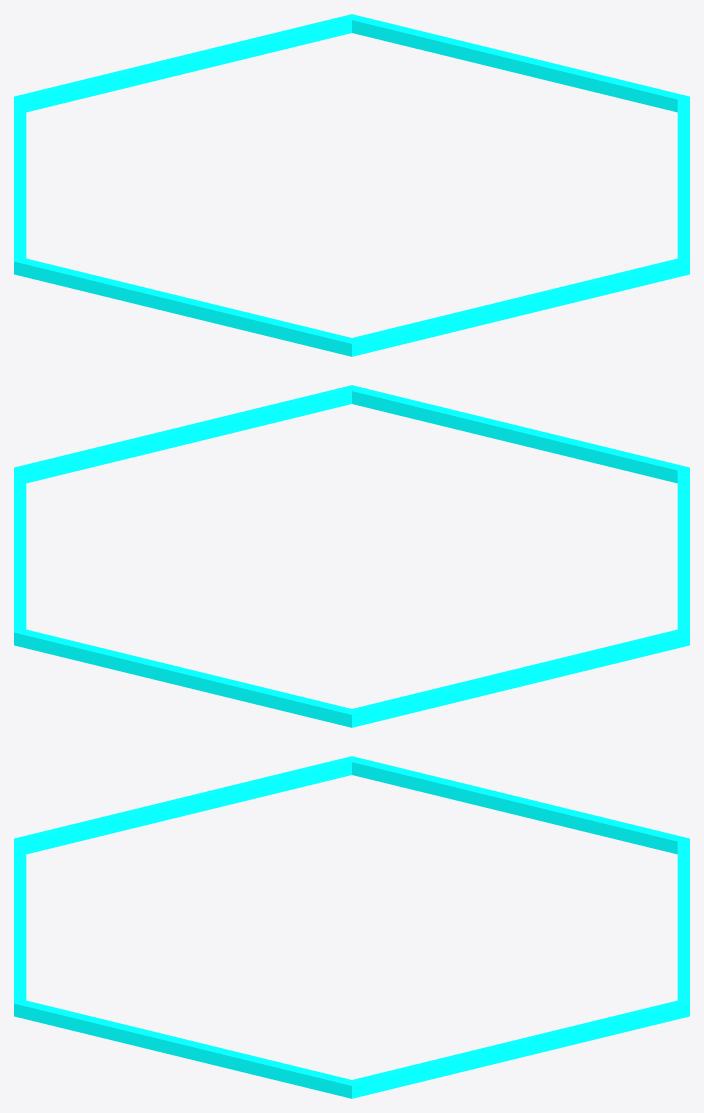
Rendered from hexGrid.fbx.
3 views of the same model, one above another, from view 1: azimuth 30°, elevation 25°; view 2: azimuth 150°, elevation 25°; view 3: azimuth 270°, elevation 25° (orthographic).
Parts seen in each view (by area): view 1: hexGrid_GEO; view 2: hexGrid_GEO; view 3: hexGrid_GEO.
Boxes of the visible parts, bbox=[...] form: hexGrid_GEO: bbox=[14, 14, 689, 356]; hexGrid_GEO: bbox=[14, 385, 689, 727]; hexGrid_GEO: bbox=[14, 756, 689, 1098].
Size of the model in its own units: 338 by 6.16 by 293.
